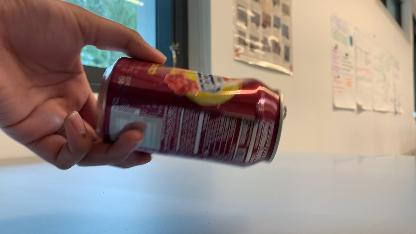Can: (92, 45, 289, 174)
